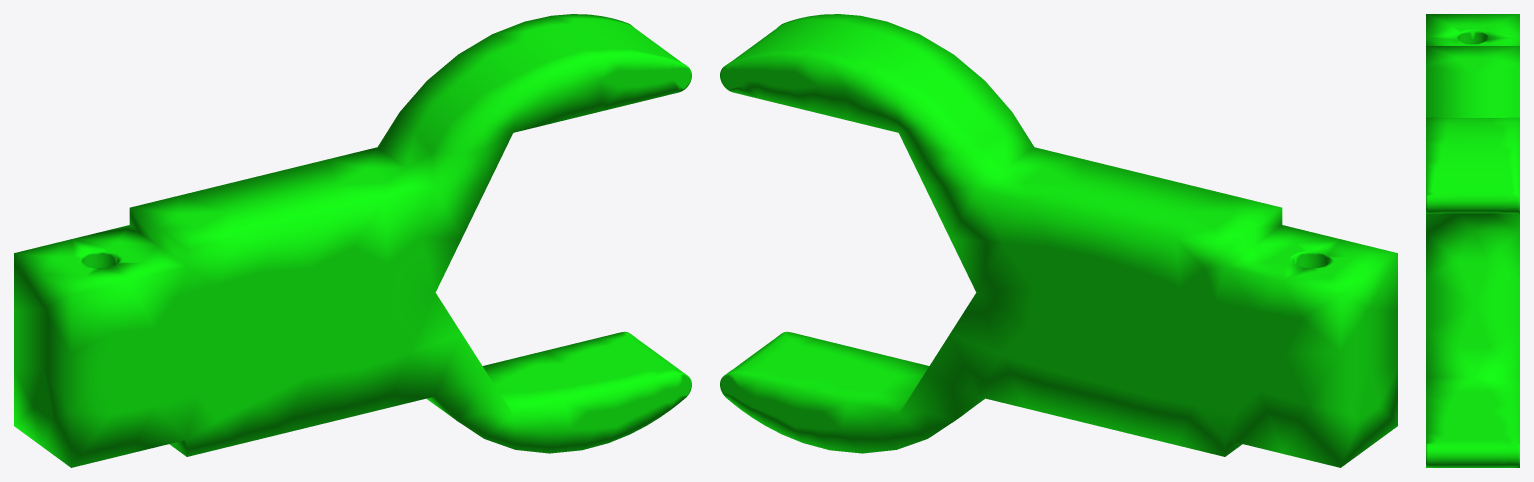
Rendered from wrench.obj.
3 views of the same model, side by side, from view 1: azimuth 30°, elevation 25°; view 2: azimuth 150°, elevation 25°; view 3: azimuth 270°, elevation 25° (orthographic). The views are drawn at different scales.
Size of the model in its own units: 0.0939 by 0.056 by 0.015.
Materials: 1 (1 with a texture image).
